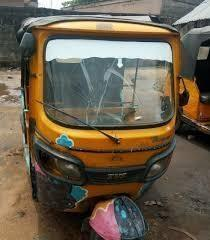keke: (12, 11, 192, 240)
